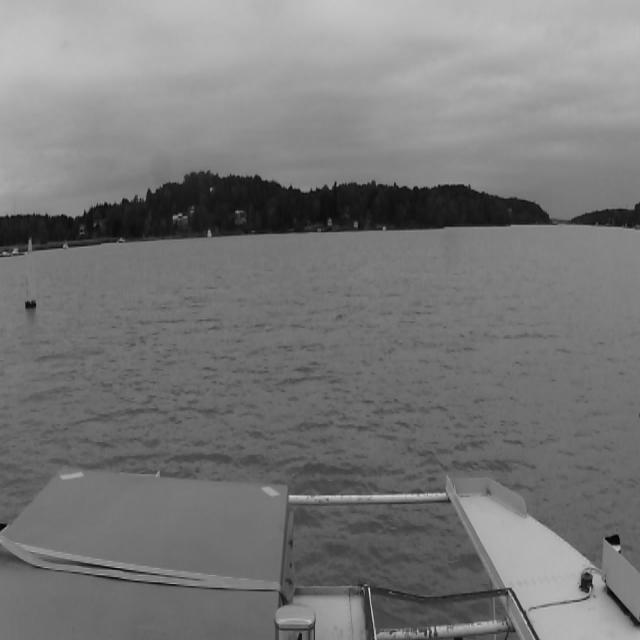buoy: (24, 239, 36, 309)
